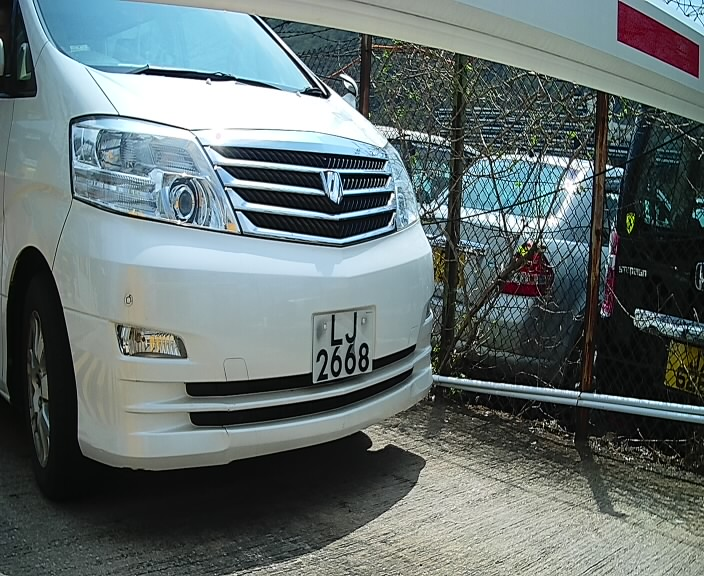License Plate: (295, 299, 389, 391)
